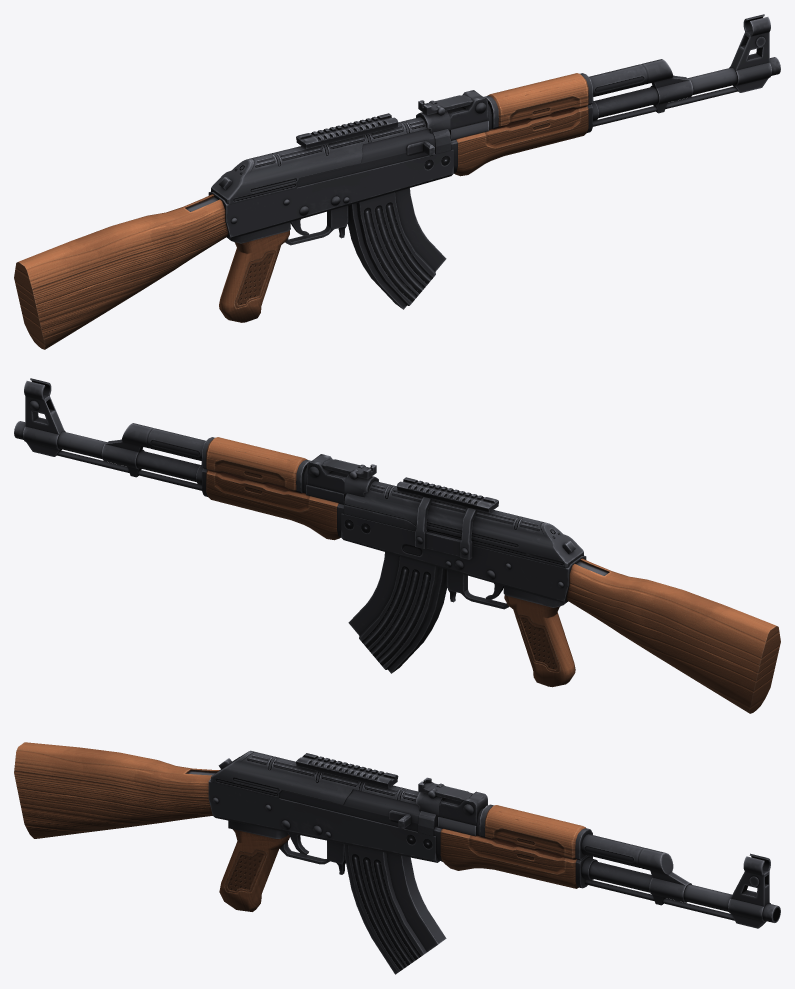
Rendered from weapon_2.glb.
3 renders of one model, top to bottom at view 1: azimuth 30°, elevation 25°; view 2: azimuth 150°, elevation 25°; view 3: azimuth 330°, elevation 25°, orthographic.
Visible parts, largest first — view 1: weapon_2; view 2: weapon_2; view 3: weapon_2.
Part boxes in pixels (x1,y1,x2,y2): weapon_2: (14,14,780,349); weapon_2: (14,378,780,713); weapon_2: (14,742,780,974).
Size of the model in its own units: 1.99 by 0.5084 by 0.1272.
1 material, 1 textured.
